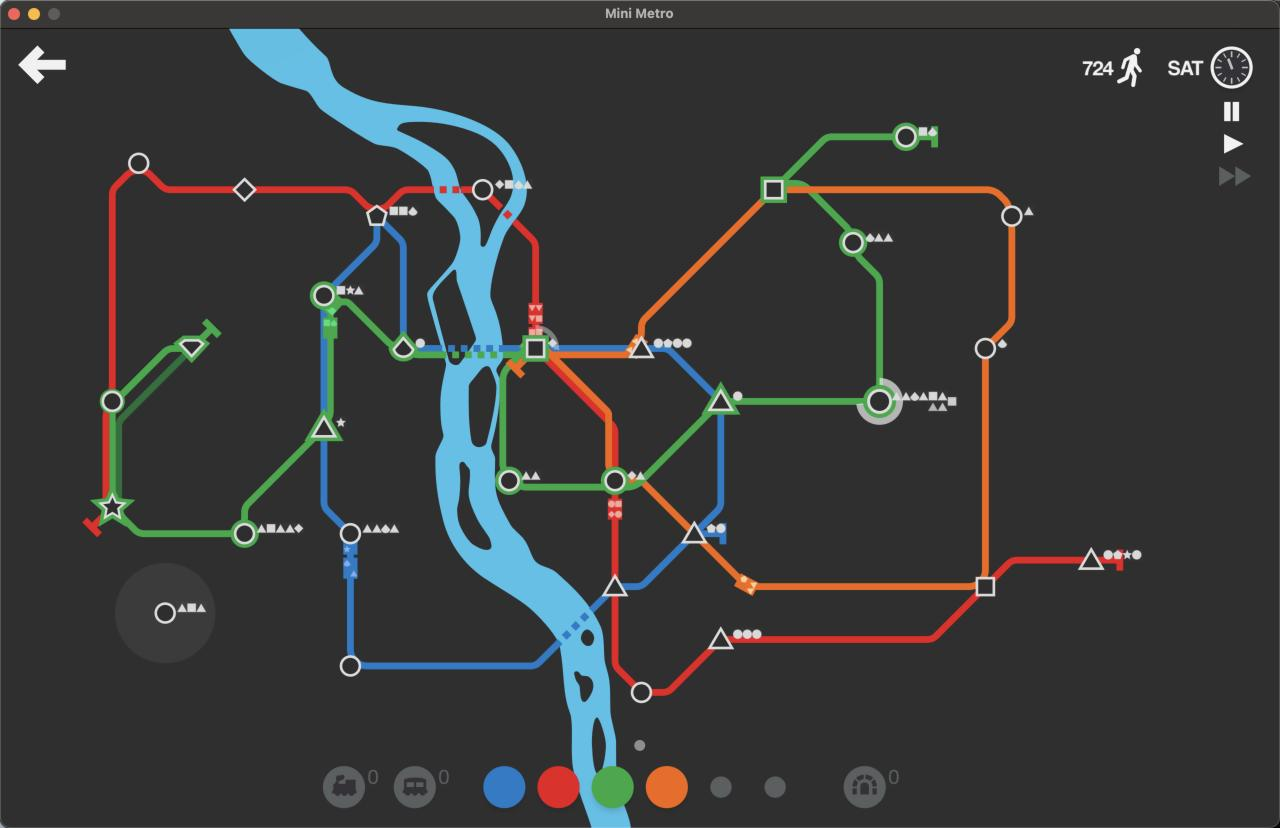CIRCLE: (892, 122, 920, 152), (496, 467, 523, 495), (601, 467, 628, 494), (232, 520, 258, 548), (310, 281, 336, 309), (839, 230, 866, 256), (867, 388, 892, 414), (100, 389, 125, 414), (1000, 204, 1023, 228), (339, 522, 362, 546), (154, 602, 177, 625), (339, 655, 362, 678), (472, 178, 494, 201), (974, 337, 996, 360), (128, 152, 150, 174), (631, 681, 652, 704)
DIAMOND: (177, 336, 207, 360)
GEM: (233, 177, 256, 202)
PENTAGON: (365, 204, 387, 227)
SQUARE: (522, 335, 549, 361), (761, 176, 786, 203), (975, 576, 996, 597)
STAR: (92, 491, 132, 525)
TRIANGLE: (705, 385, 737, 415), (309, 413, 340, 441), (1078, 546, 1105, 571), (681, 521, 709, 545), (628, 335, 656, 359), (708, 626, 734, 651), (602, 574, 629, 597)
WEDGE: (391, 335, 416, 359)
